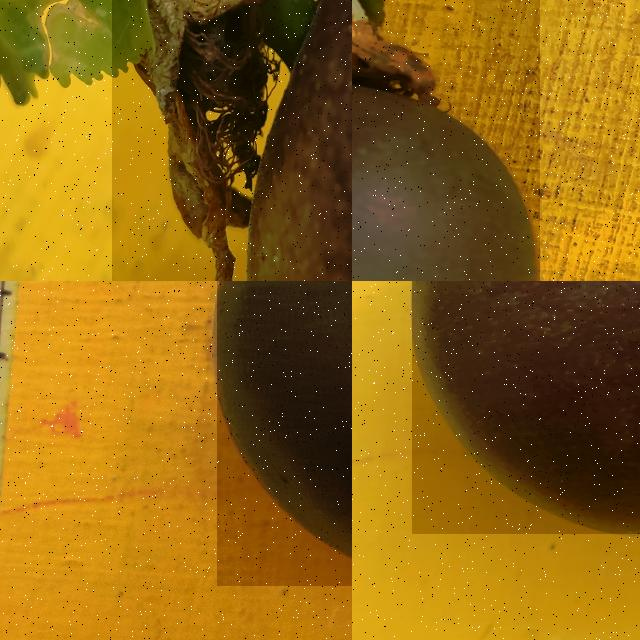Estado-3: (352, 0, 539, 281)
Estado-4: (150, 0, 352, 281), (413, 281, 640, 526)
Estado-5: (217, 281, 352, 560)
